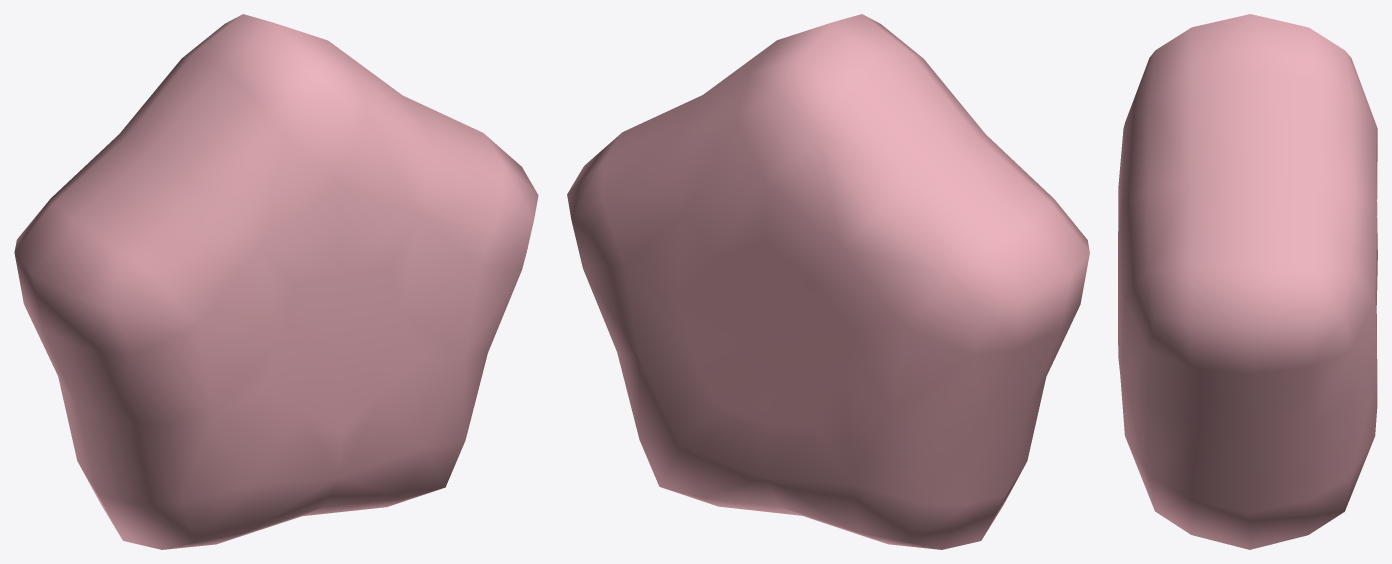
The model's file is wawaA_wawajiA_Geo.fbx.
3 renders of one model, left to right at view 1: azimuth 30°, elevation 25°; view 2: azimuth 150°, elevation 25°; view 3: azimuth 270°, elevation 25°, orthographic. The views are drawn at different scales.
Parts seen in each view (by area): view 1: wawaA_wawajiA_Geo; view 2: wawaA_wawajiA_Geo; view 3: wawaA_wawajiA_Geo.
Part boxes in pixels (x1,y1,x2,y2): wawaA_wawajiA_Geo: [14, 14, 538, 549]; wawaA_wawajiA_Geo: [567, 14, 1089, 549]; wawaA_wawajiA_Geo: [1118, 14, 1377, 549].
Bounding box in the file's own units: 53.25 × 51.51 × 25.57.
